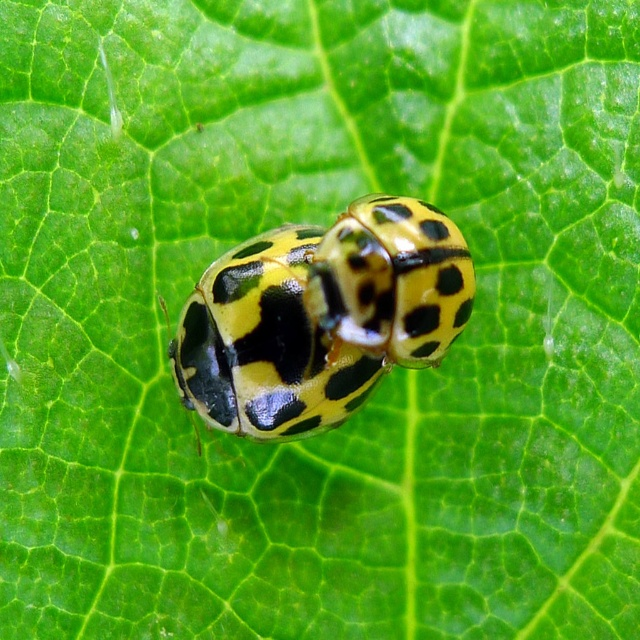Ladybug: (169, 192, 474, 435)
